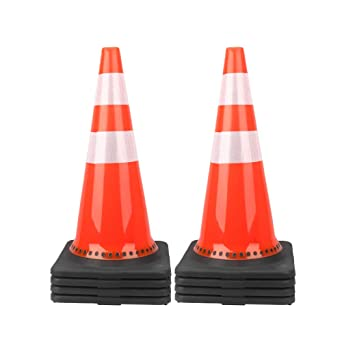cones: (47, 44, 174, 304), (172, 45, 299, 305)
